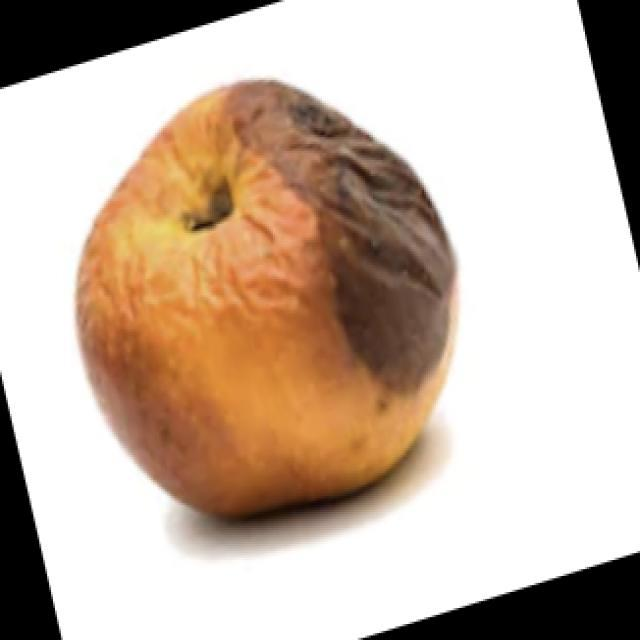Rotten: (77, 74, 455, 518)
